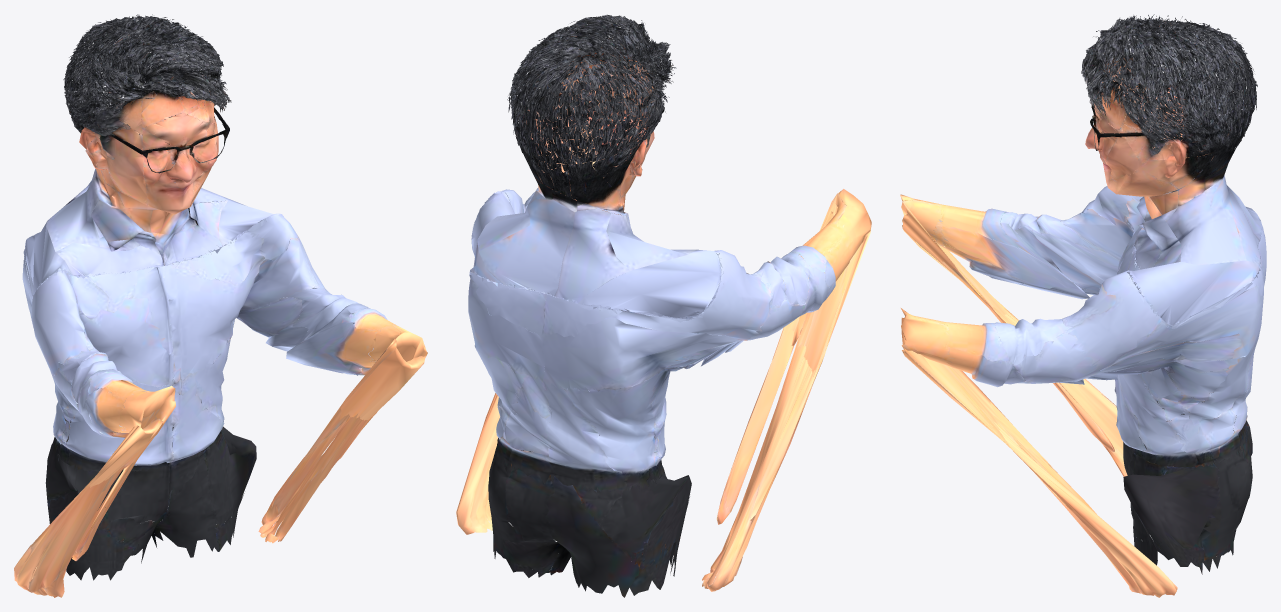
Rendered from vice-hwang.glb.
3 renders of one model, left to right at view 1: azimuth 30°, elevation 25°; view 2: azimuth 150°, elevation 25°; view 3: azimuth 270°, elevation 25°, orthographic. The views are drawn at different scales.
Visible parts, largest first — view 1: vice-hwang-운전자; view 2: vice-hwang-운전자; view 3: vice-hwang-운전자.
Part boxes in pixels (bbox=[...]): vice-hwang-운전자: bbox=[14, 14, 427, 597]; vice-hwang-운전자: bbox=[456, 14, 871, 597]; vice-hwang-운전자: bbox=[900, 14, 1266, 597].
Size of the model in its own units: 0.6644 by 1.13 by 0.7287.
Materials: 2 (2 with a texture image).
